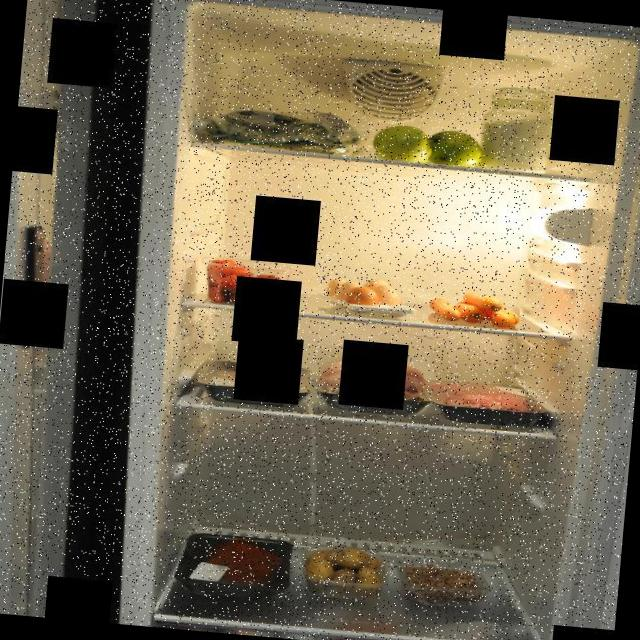Carne pollo: (314, 342, 435, 418), (192, 357, 314, 408)
Carne vacuno: (173, 530, 294, 606)
Gambas/Langostinos: (392, 554, 494, 611)
Huevos: (322, 272, 407, 318)
Manzana: (364, 119, 489, 169)
Patata: (300, 544, 390, 597)
Zanahoria: (423, 286, 529, 331)
